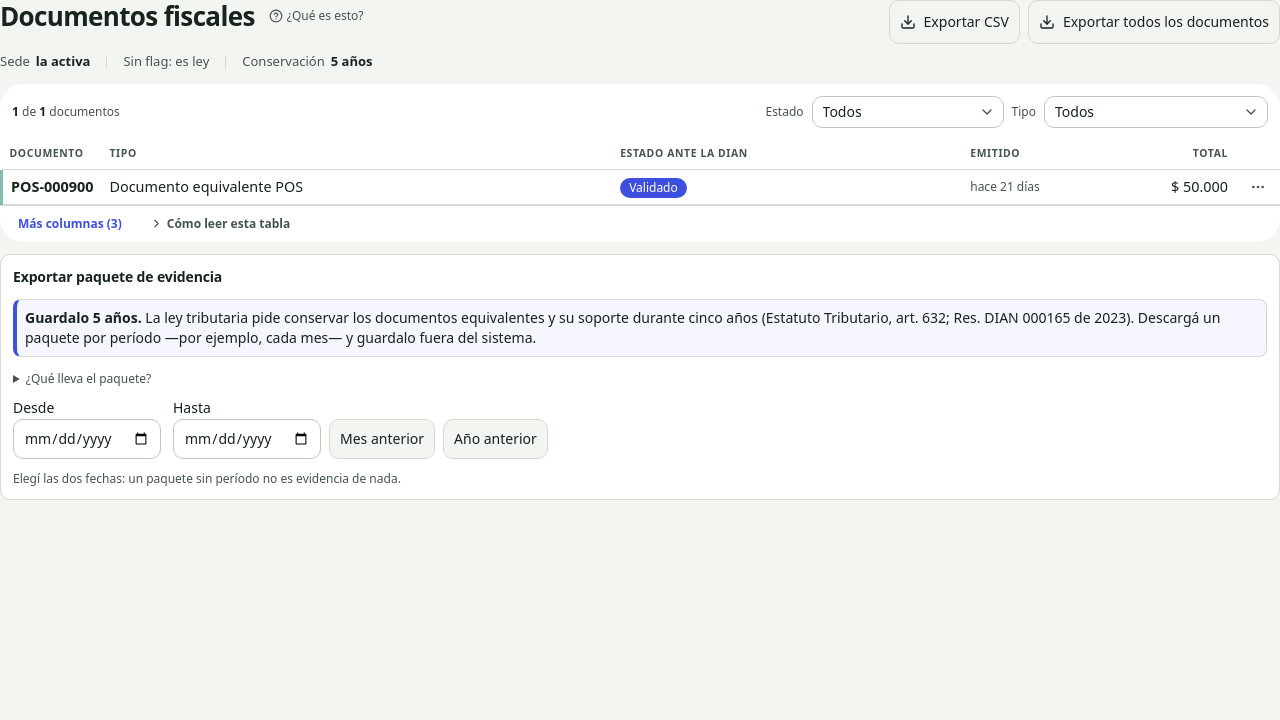
Scenario: DocumentsPage › evidencia muestra CUDE, QR y el hash del contenido
This screenshot has width=1280, height=720.
Expected: the text "POS-000900" is shown, [2,170,102,204]
Click the button named "Acciones de POS-000900" at (1258, 187), box [1244,173,1272,201]
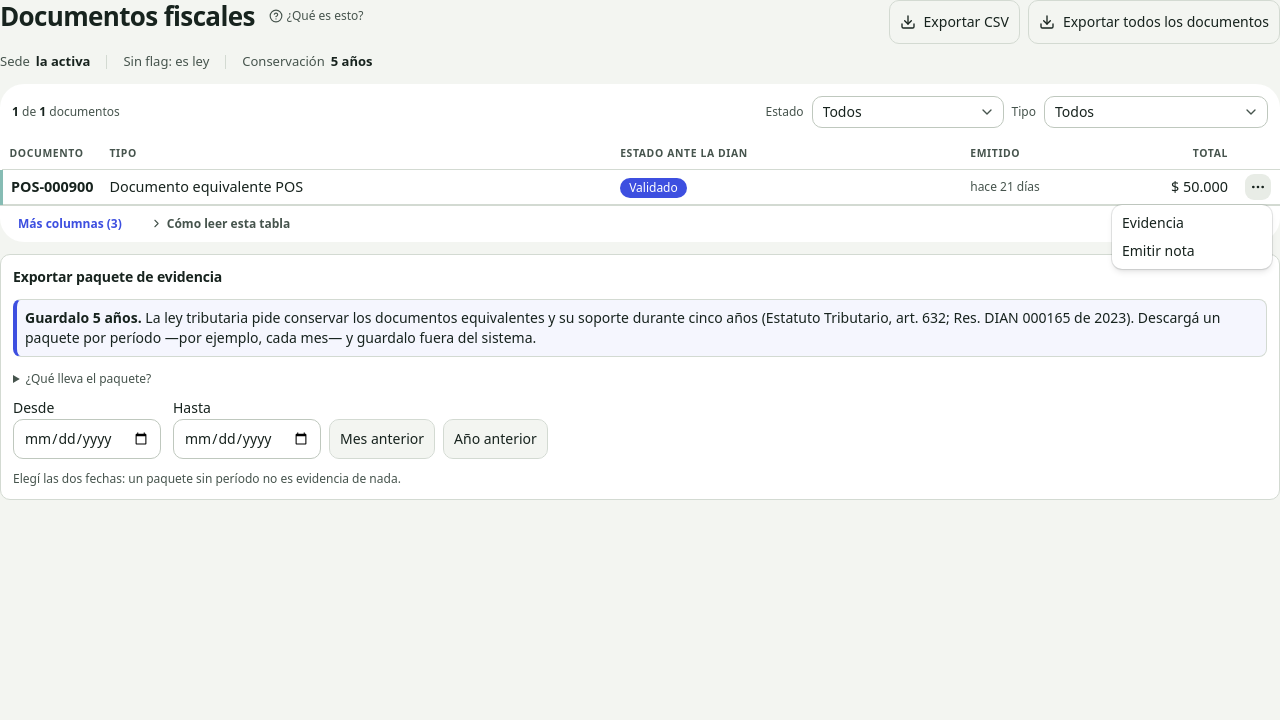
Now the menu item "Evidencia" is shown
Click the menu item "Evidencia" at (1153, 222), box [1122,213,1184,232]
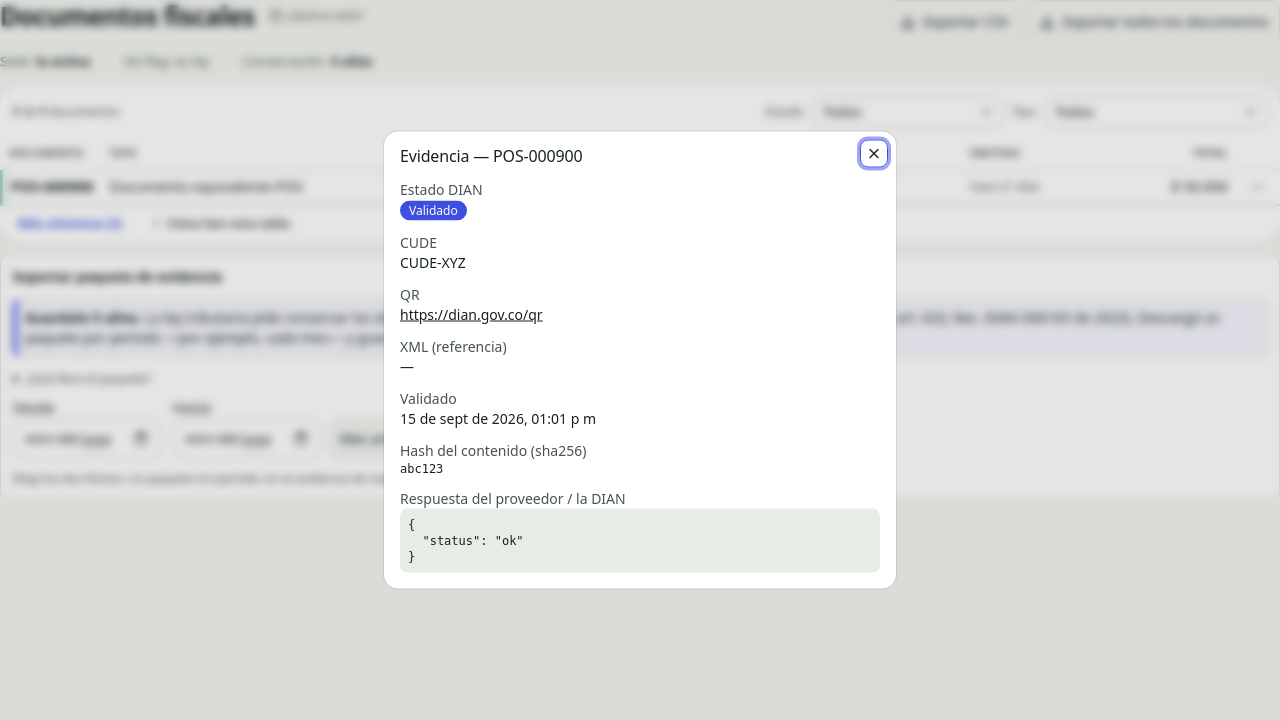
Now the text "CUDE-XYZ" is shown, box [400,252,466,272]
Now the text "abc123" is shown, box [400,462,443,476]
